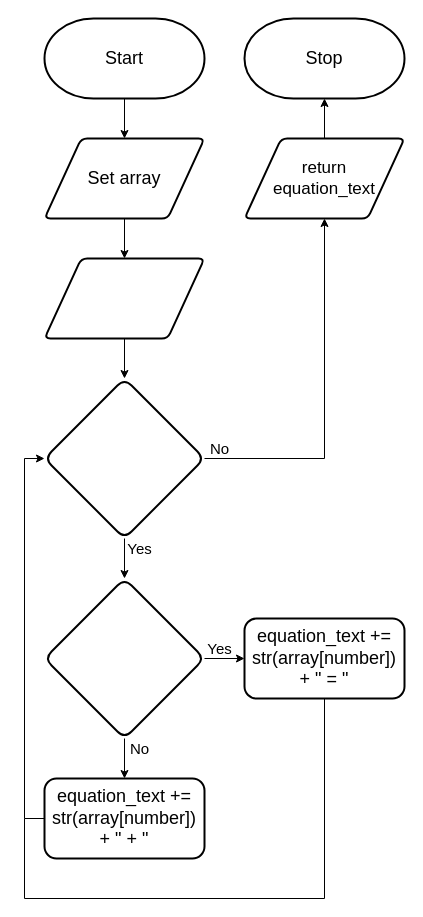
Image size: 423x917. Some labels were removed from this diagram. The shapes that lost their labels are listed below. From the top down, each one's box as (x1, y1, x2, y2) in pixels, then its label:
(43, 257, 205, 339): Set equation text to ""
(43, 377, 205, 539): for number in range(0, len(array))
(43, 577, 205, 739): if number == len(array) - 1
